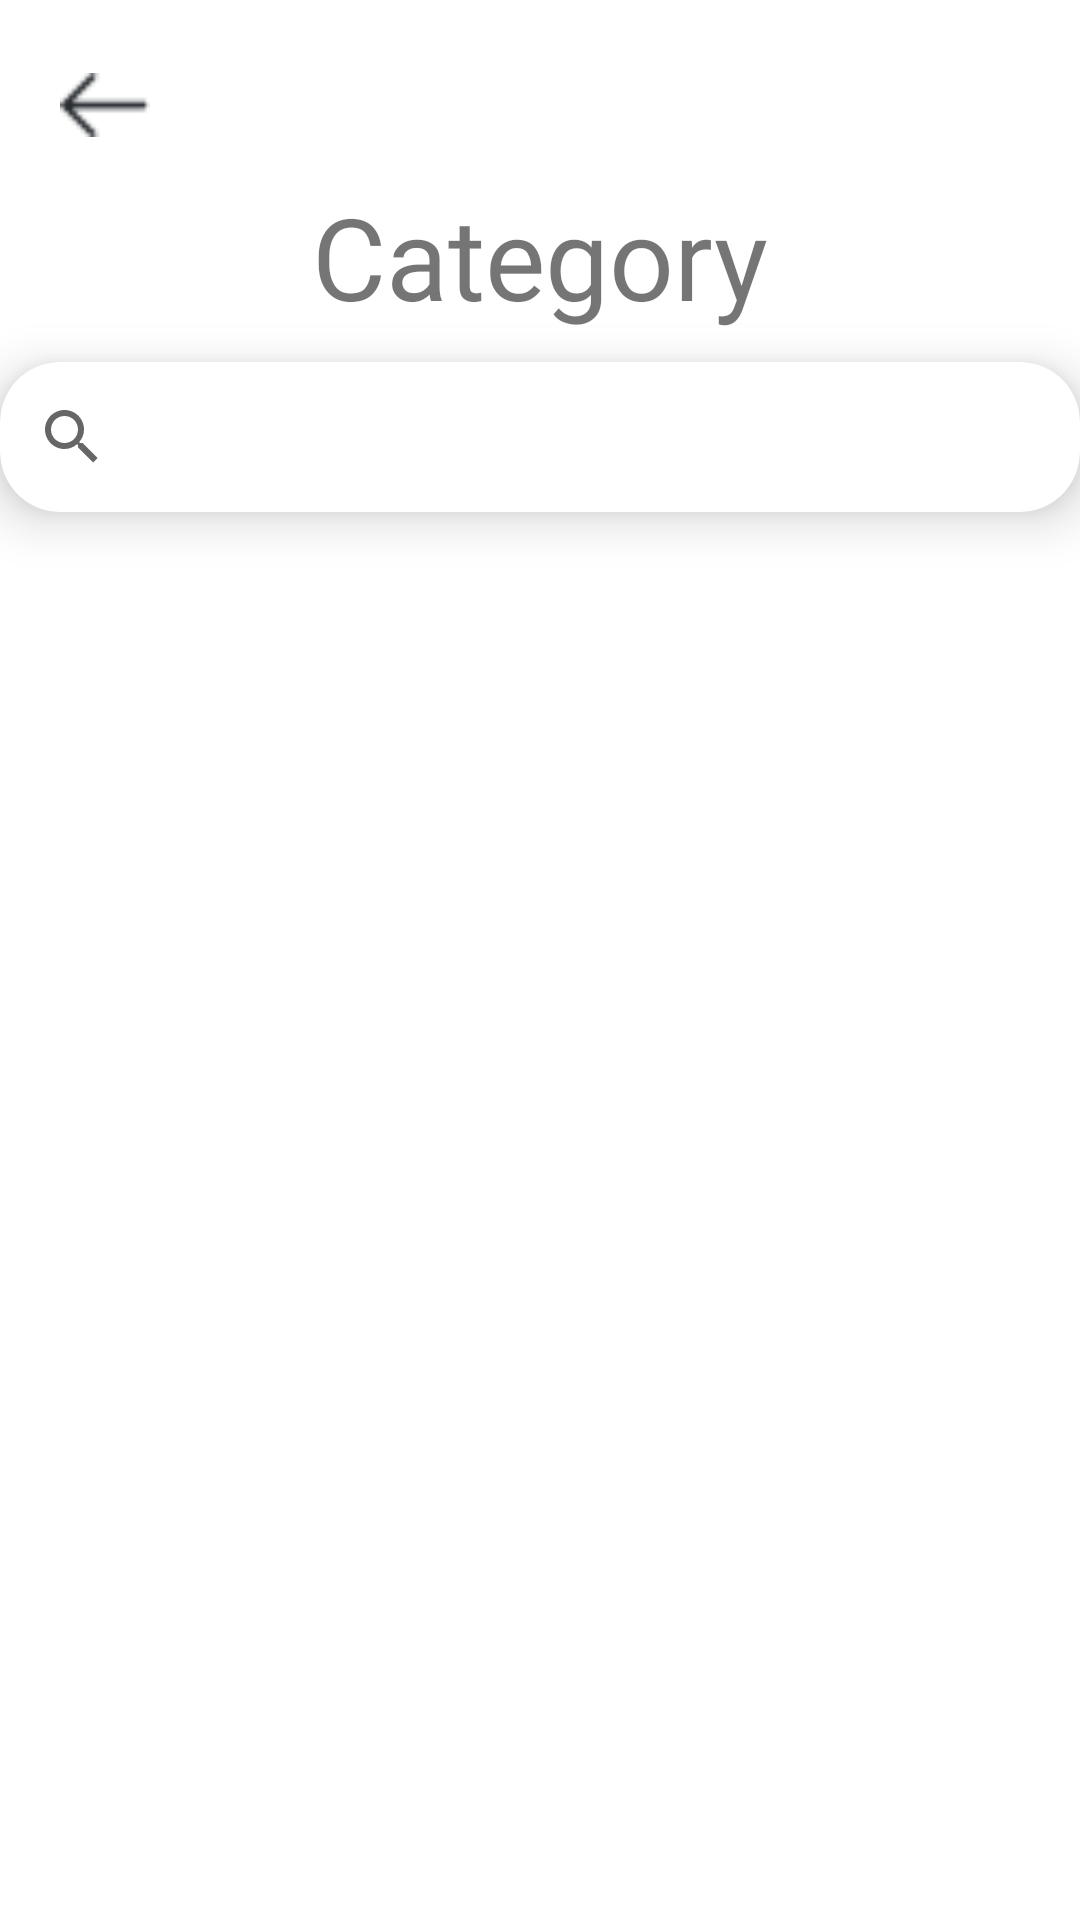

Icons on this 1080x1920 Android screen, each with the point to tap as (x,y):
Back: (104,105)
